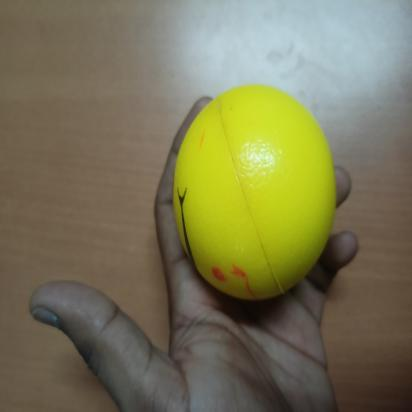Yellowball: (169, 81, 341, 302)
